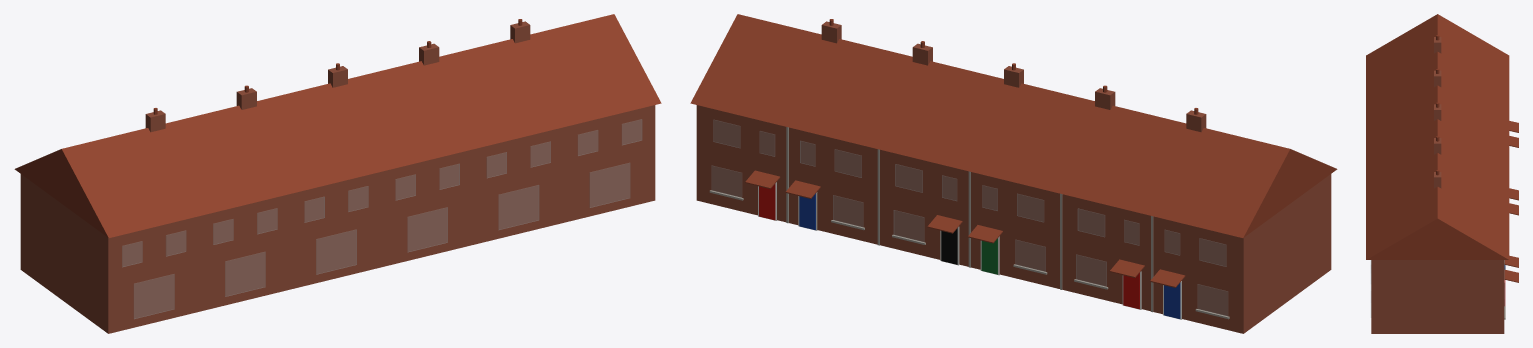
File: context.type.housing_row.glb
3 renders of one model, left to right at view 1: azimuth 30°, elevation 25°; view 2: azimuth 150°, elevation 25°; view 3: azimuth 270°, elevation 25°, orthographic. The views are drawn at different scales.
Parts seen in each view (by area): view 1: walls__brick, roof__clay_tile, openings__glass, roof__brick; view 2: roof__clay_tile, walls__brick, openings__glass, roof__brick, walls__paving, openings__plastic_blue, openings__plastic_red, openings__paint_white, openings__paving, openings__plastic_black, openings__plastic_green; view 3: roof__clay_tile, walls__brick, roof__brick.
Boxes of the visible parts, left/top/right/bottom form: walls__brick: left=20, top=105, right=655, bottom=333; roof__clay_tile: left=14, top=14, right=661, bottom=237; openings__glass: left=122, top=119, right=641, bottom=318; roof__brick: left=145, top=21, right=530, bottom=132; roof__clay_tile: left=690, top=14, right=1337, bottom=287; walls__brick: left=696, top=105, right=1331, bottom=333; openings__glass: left=712, top=120, right=1227, bottom=315; roof__brick: left=821, top=21, right=1206, bottom=132; walls__paving: left=786, top=127, right=1153, bottom=312; openings__plastic_blue: left=799, top=193, right=1180, bottom=318; openings__plastic_red: left=759, top=184, right=1139, bottom=309; openings__paint_white: left=758, top=182, right=1182, bottom=319; openings__paving: left=709, top=190, right=1229, bottom=319; openings__plastic_black: left=941, top=228, right=957, bottom=264; openings__plastic_green: left=981, top=238, right=997, bottom=274; roof__clay_tile: left=1366, top=14, right=1518, bottom=282; walls__brick: left=1371, top=260, right=1504, bottom=333; roof__brick: left=1434, top=37, right=1441, bottom=188.
Size of the model in its own units: 32.75 by 9.72 by 10.35.
